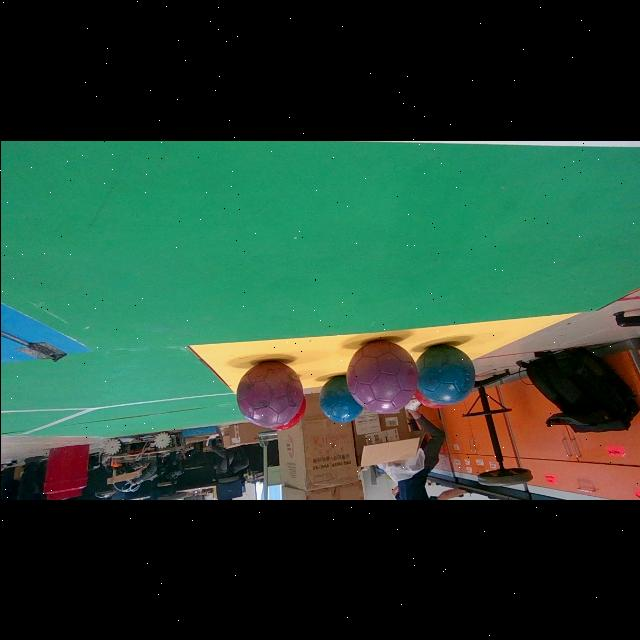B: (415, 345, 474, 405), (319, 376, 362, 423)
P: (345, 341, 416, 414), (236, 361, 302, 428)
